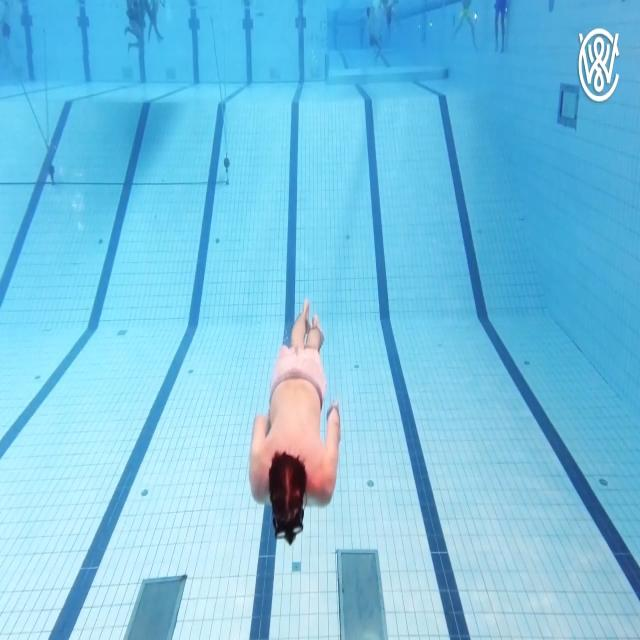Swimming: (250, 298, 342, 546)
